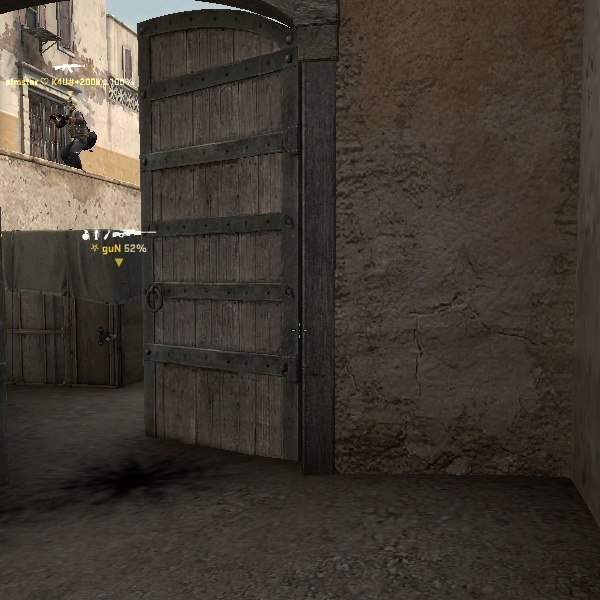t_body: (54, 101, 95, 170)
